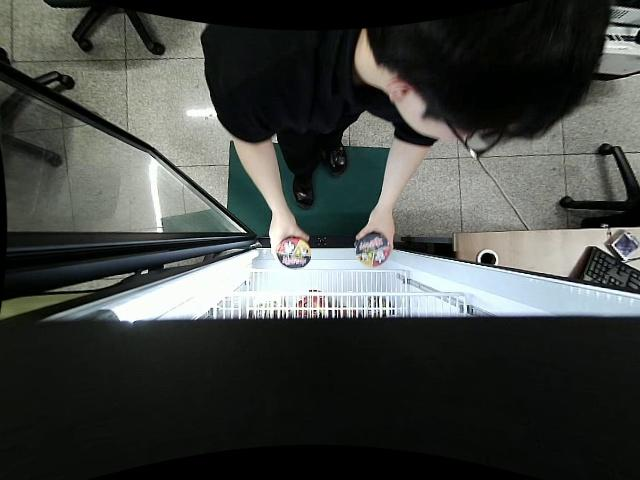00_hand: (269, 215, 309, 261), (358, 212, 395, 257)
08_buldak_S: (354, 233, 391, 267), (276, 236, 311, 270)
